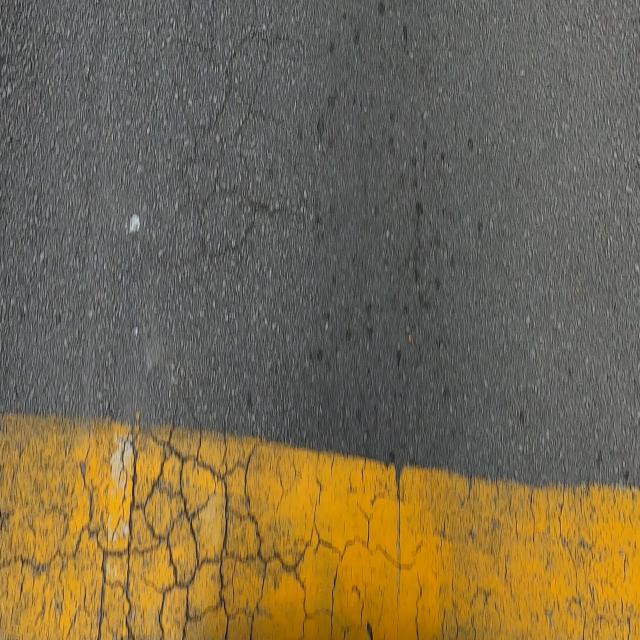Retak-Buaya: (0, 420, 409, 640), (169, 0, 287, 269)
